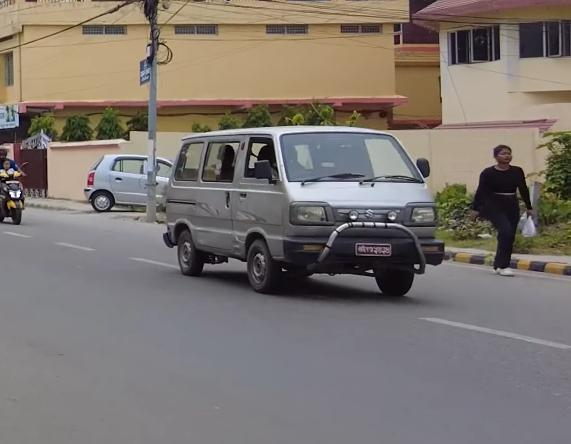car: (85, 149, 177, 216)
scooter: (0, 160, 31, 227)
van: (157, 119, 459, 302)
